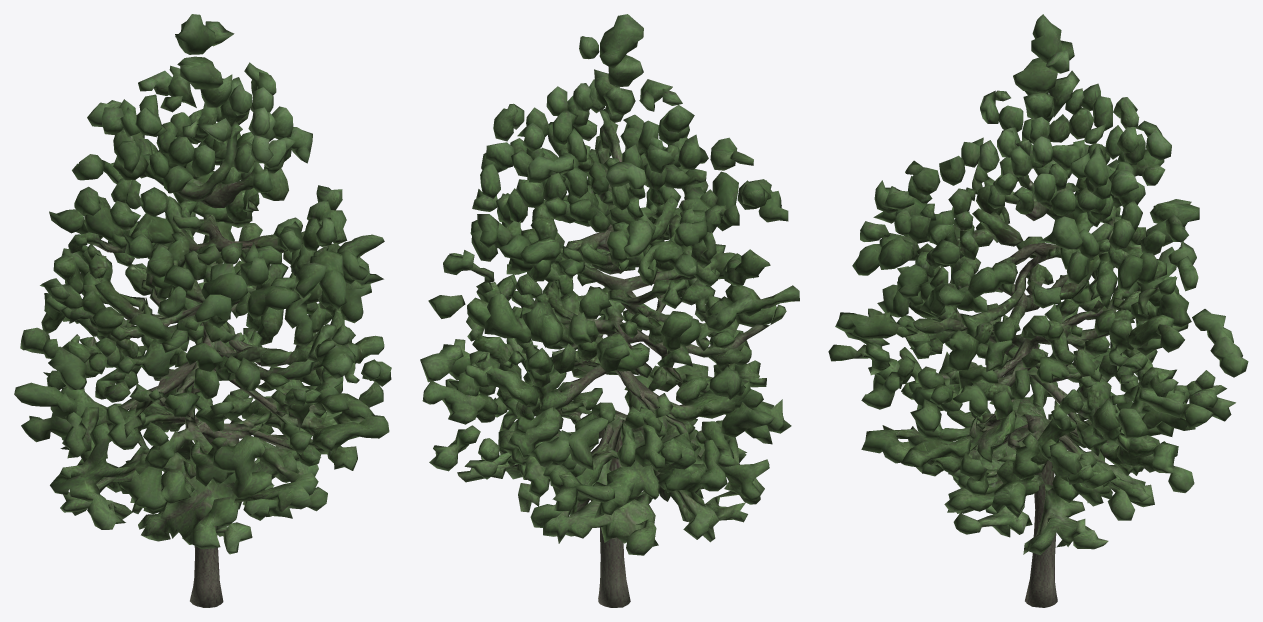
The model's file is Tree_15ftTall_0222023130_texture.glb.
3 renders of one model, left to right at view 1: azimuth 30°, elevation 25°; view 2: azimuth 150°, elevation 25°; view 3: azimuth 270°, elevation 25°, orthographic.
Parts seen in each view (by area): view 1: Mesh_0; view 2: Mesh_0; view 3: Mesh_0.
Part boxes in pixels (left/top/right/bottom): Mesh_0: left=14, top=14, right=391, bottom=607; Mesh_0: left=420, top=14, right=799, bottom=607; Mesh_0: left=828, top=14, right=1248, bottom=607.
Size of the model in its own units: 2.18 by 3.66 by 2.4.
Materials: 1 (1 with a texture image).
